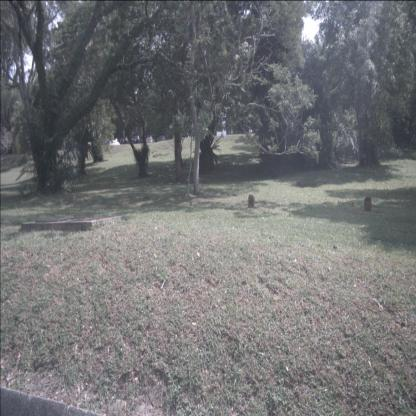vehicle-car: (131, 135, 141, 145), (120, 136, 130, 146), (145, 134, 154, 144), (109, 138, 120, 146)
